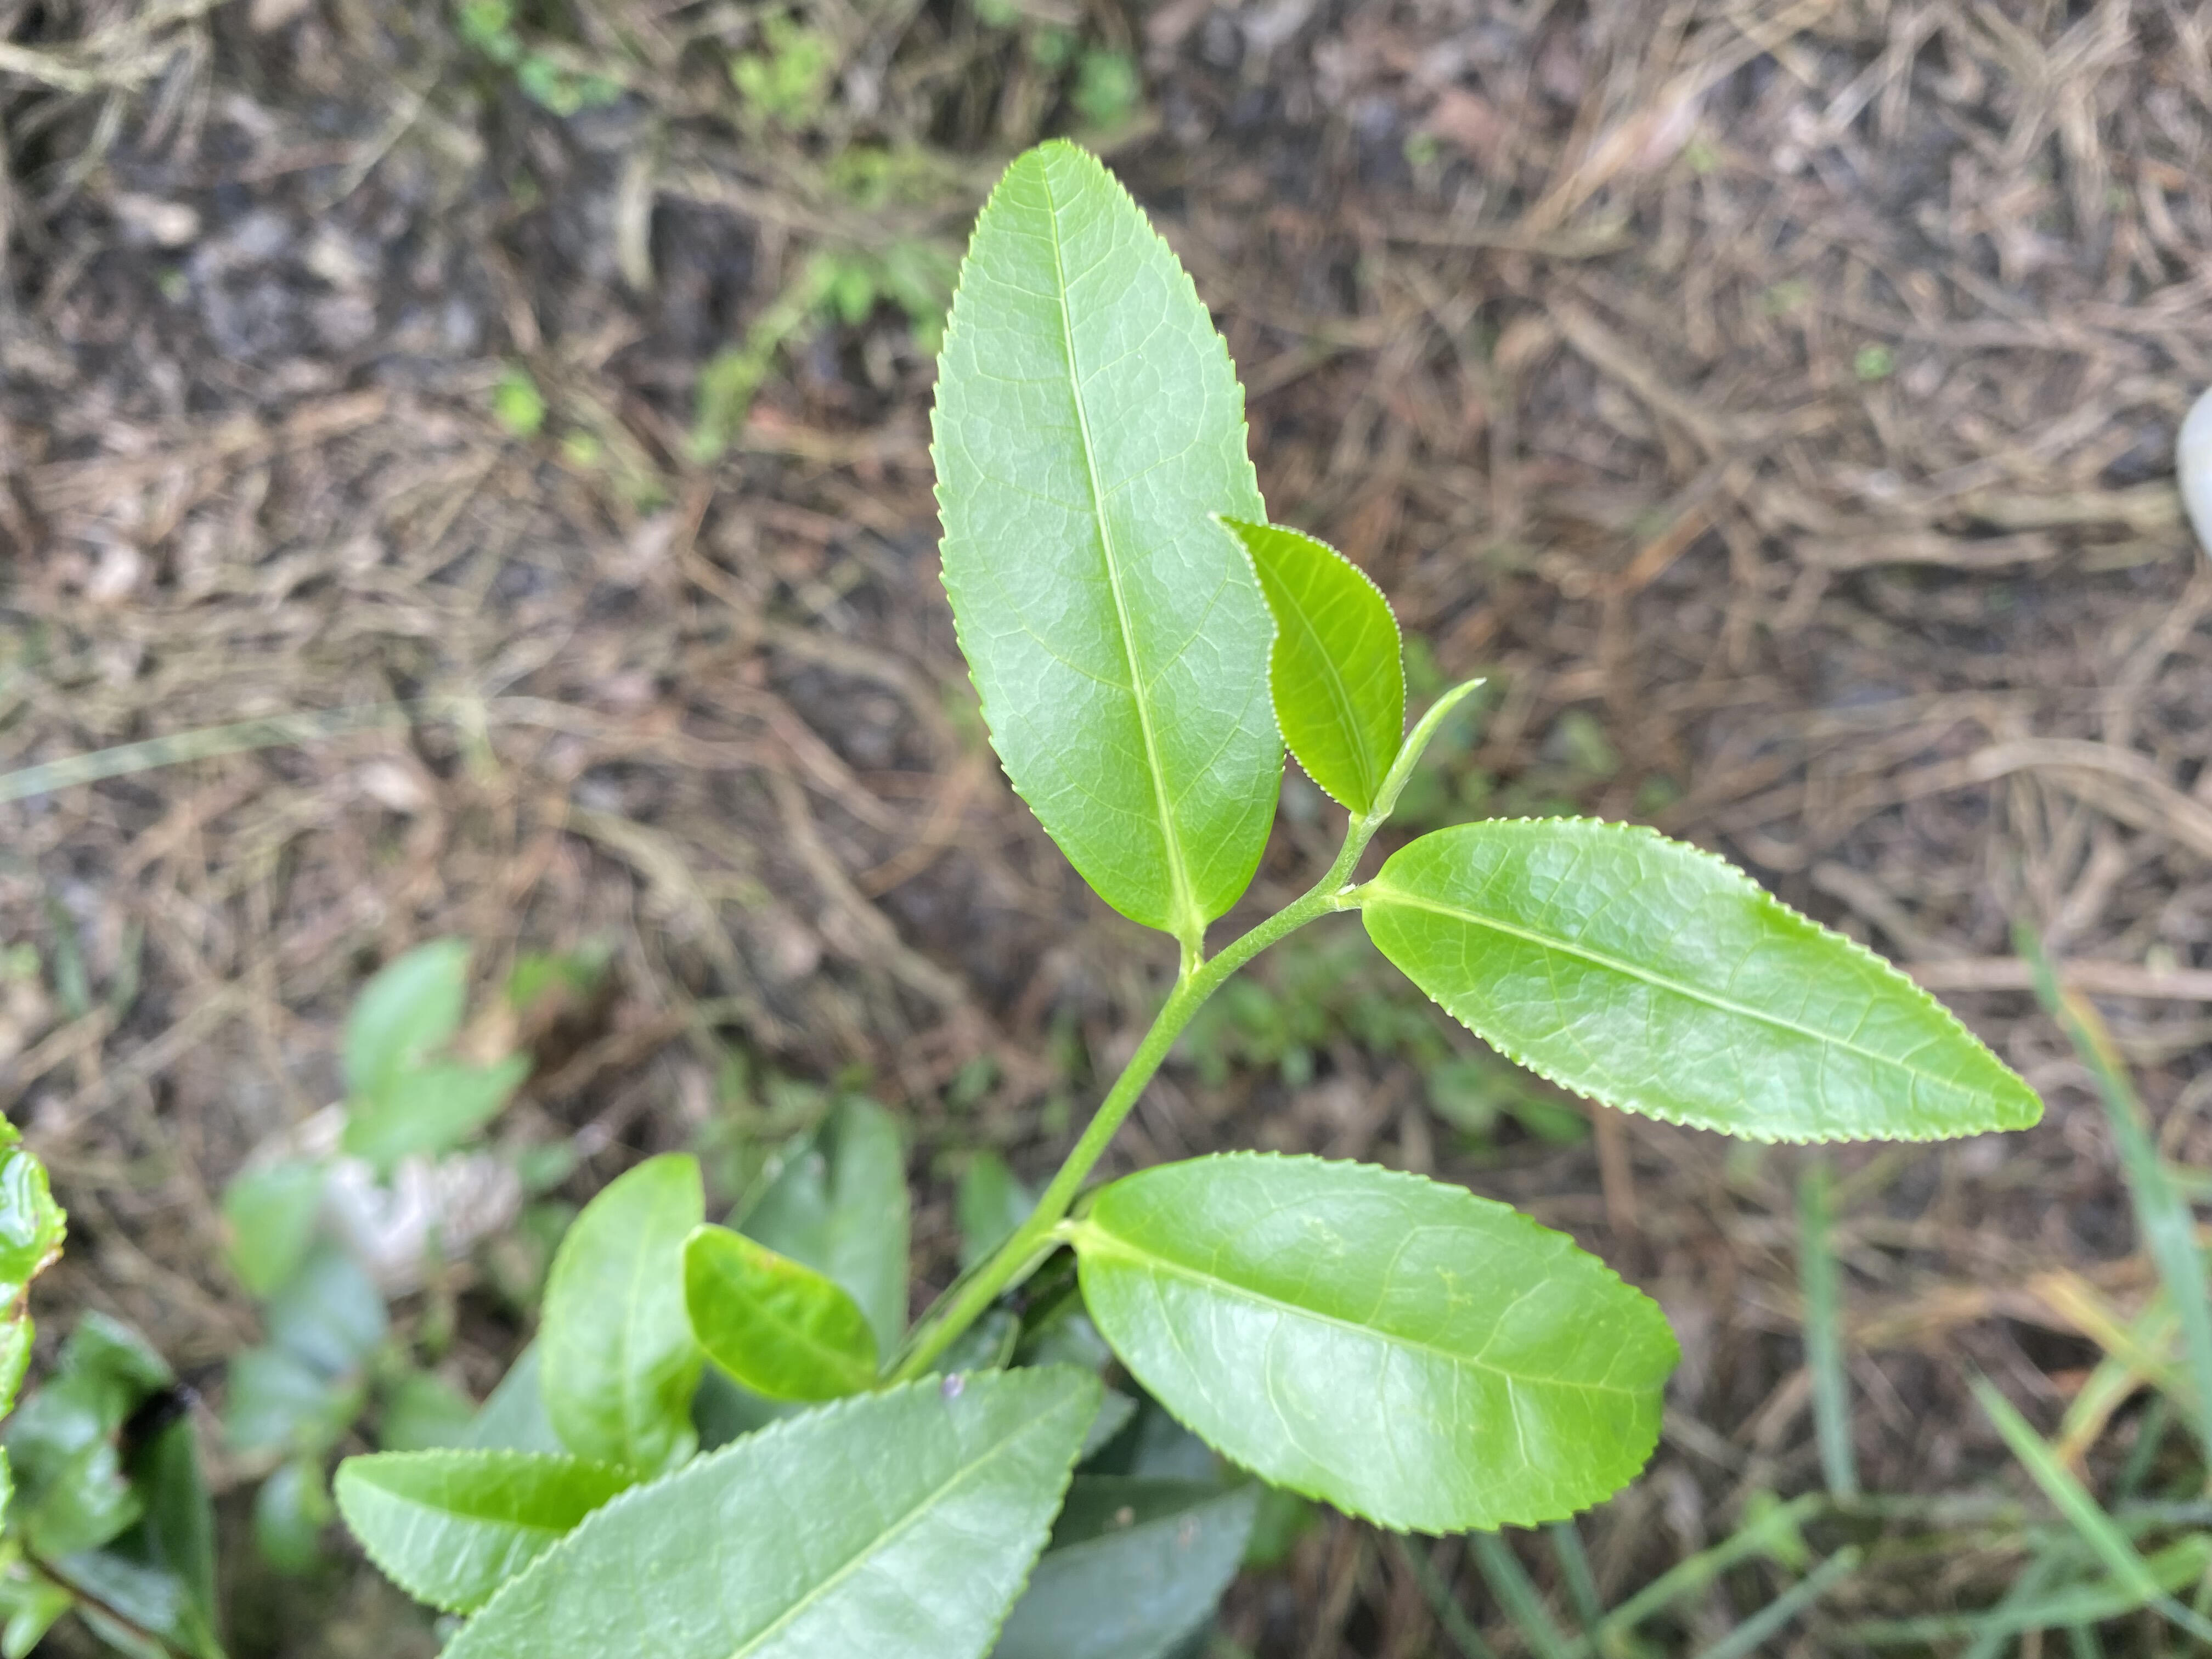healthy: (921, 136, 1287, 936), (1075, 1145, 1683, 1537), (1362, 816, 2045, 1150), (1205, 509, 1409, 816)
tanju_low: (432, 1358, 1099, 1657)
